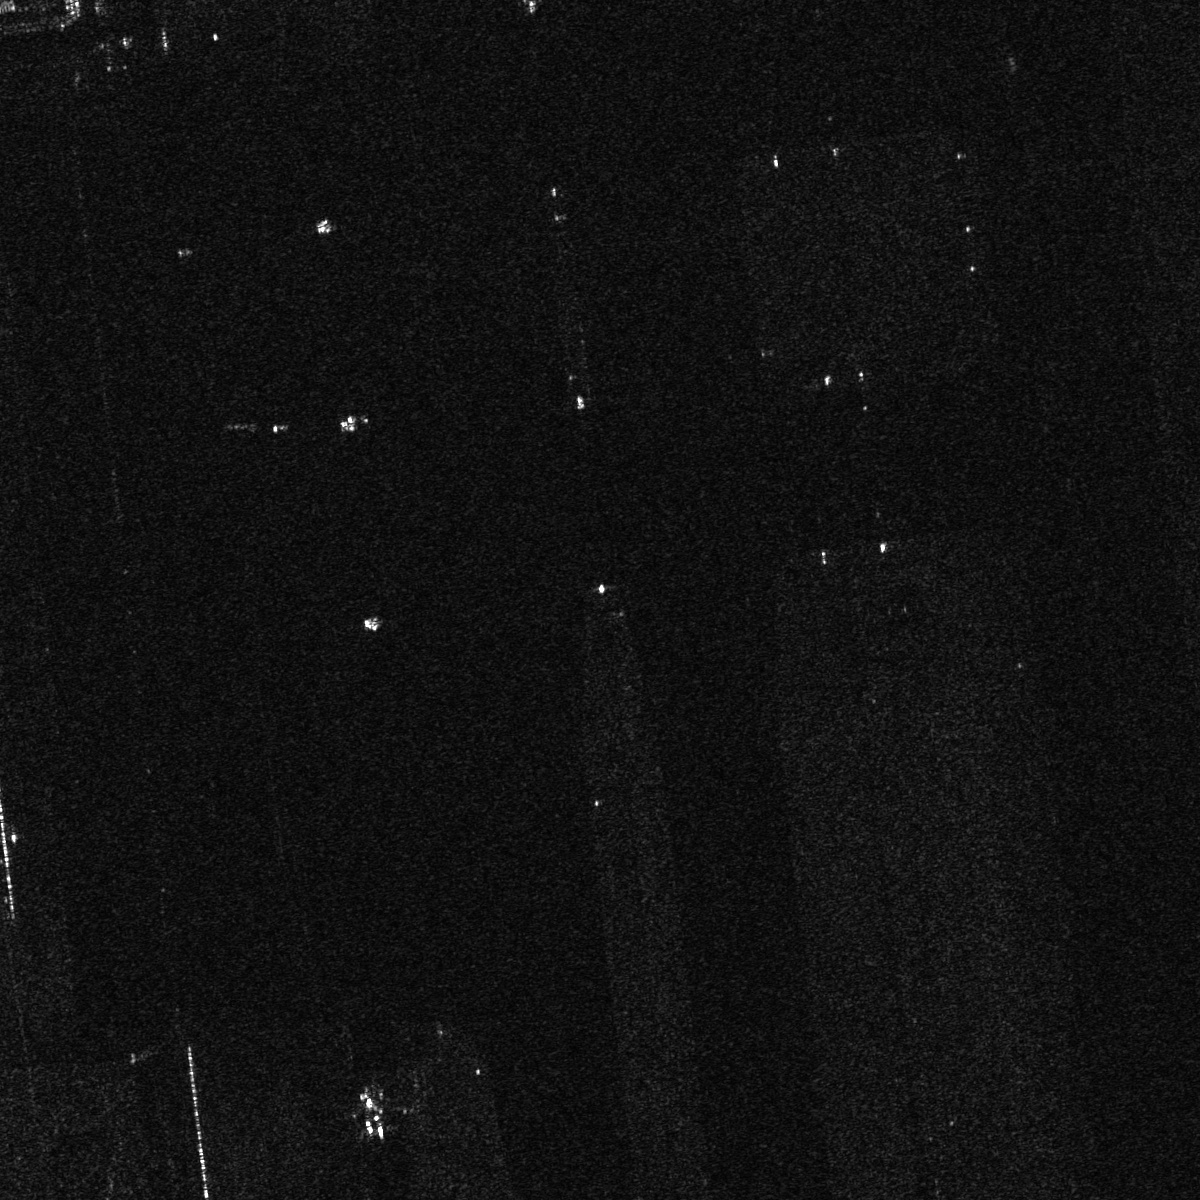A220: (329, 1075, 408, 1149)
